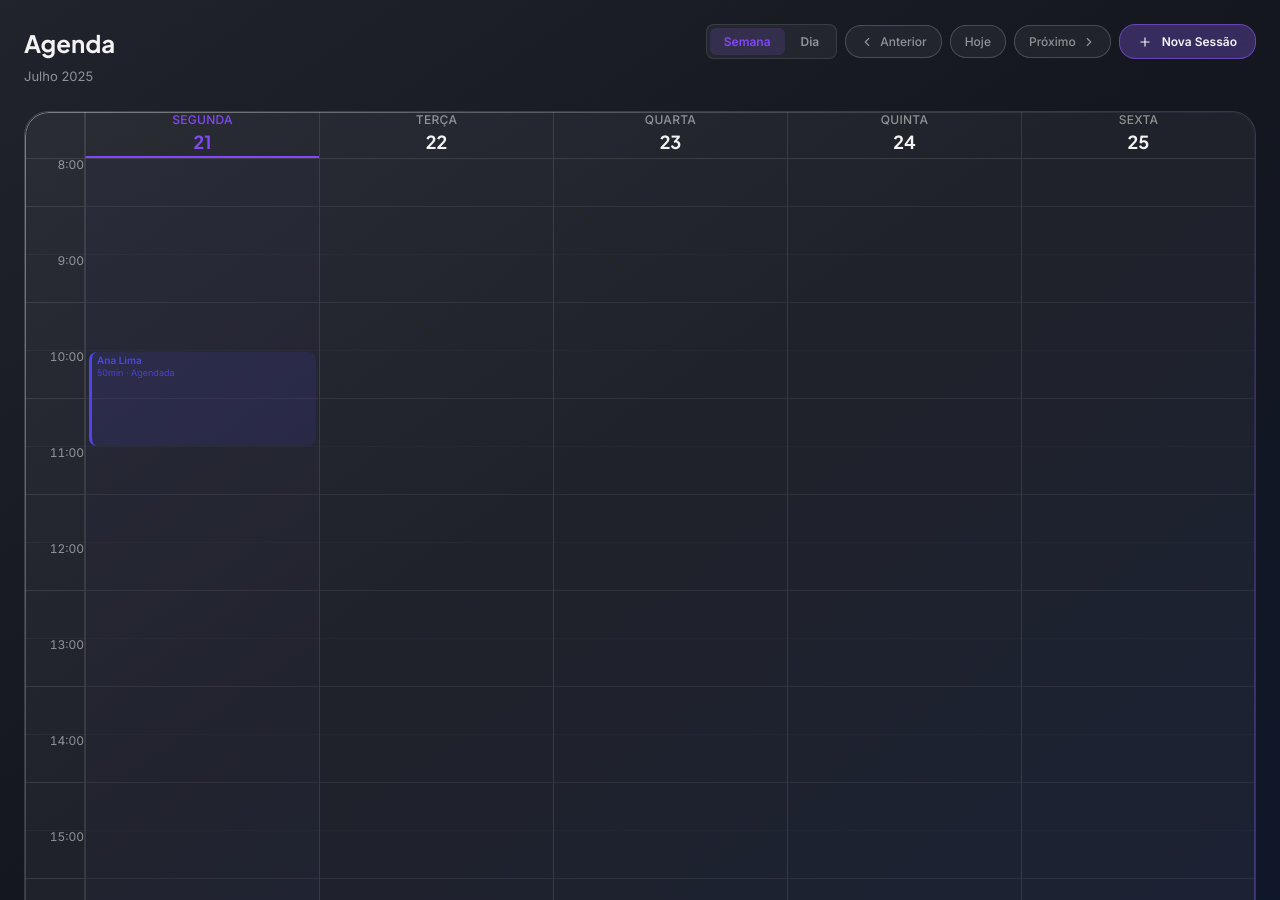
Test case: AgendaPage › toggle "Dia" muda a visualização para lista (DayList)
Click the button "Dia": (810, 42) [787, 28, 833, 55]
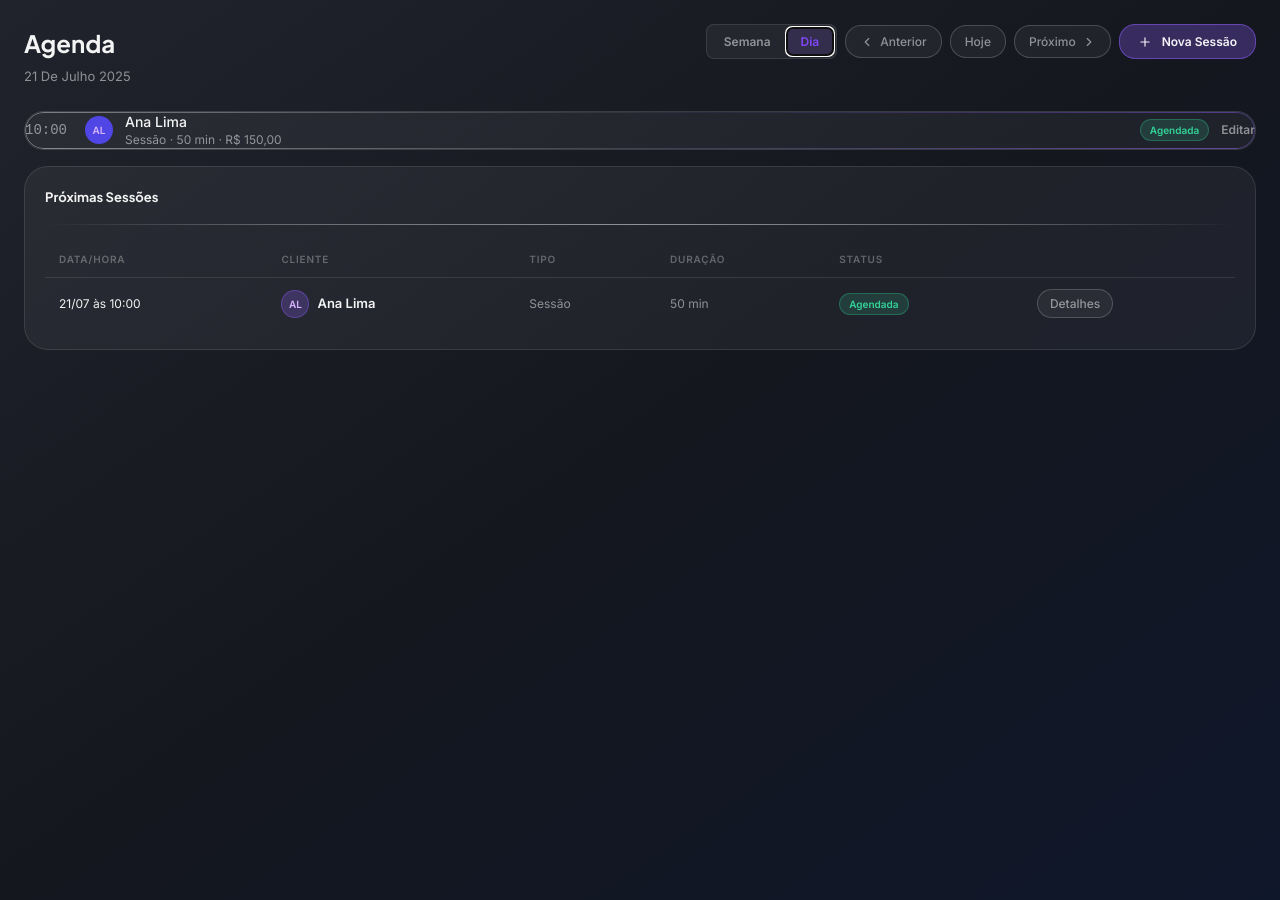
Expected: the text "Sessão · 50 min · R$ 150,00" is shown, [125, 132, 282, 147]
